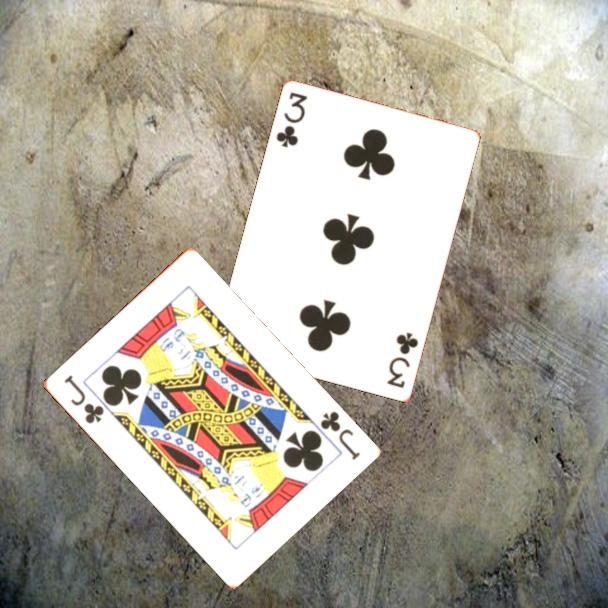c03: (383, 329, 421, 391), (273, 89, 310, 151)
c11: (60, 371, 107, 427), (316, 407, 363, 463)
